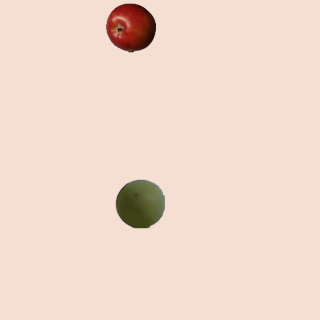Apple Braeburn: (105, 2, 155, 52)
Grape White 4: (114, 178, 164, 228)
